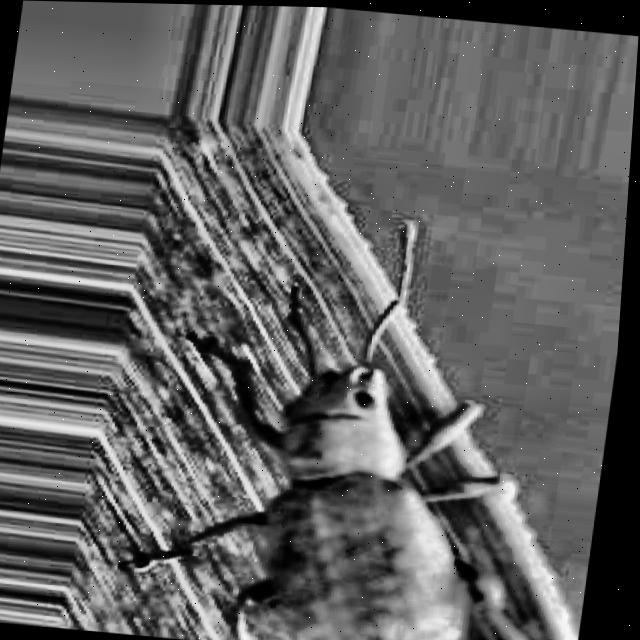Stink bug: (169, 260, 586, 640)
